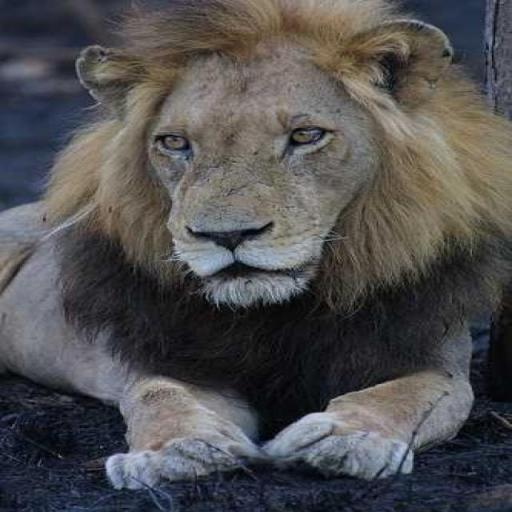Lion: (0, 0, 511, 492)
